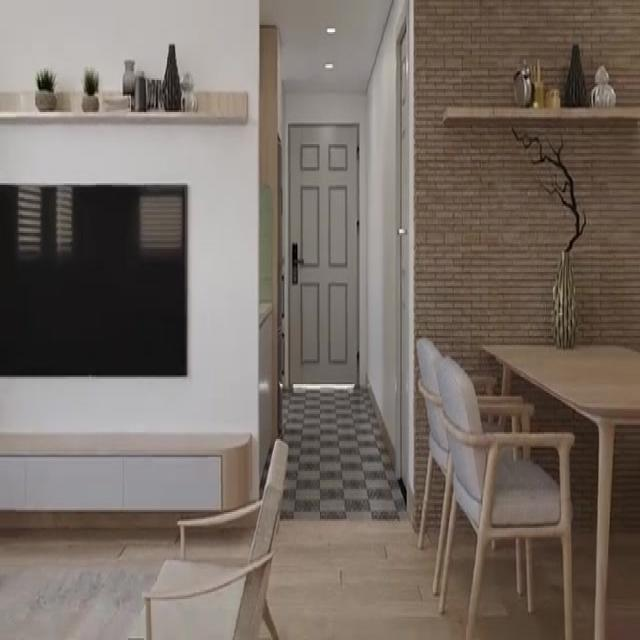door: (287, 122, 359, 388)
obstacle: (481, 342, 639, 638), (440, 357, 572, 640), (126, 438, 288, 638), (416, 341, 534, 597)
